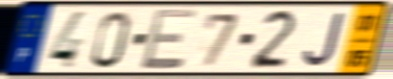0: (90, 9, 135, 70)
2: (249, 7, 299, 71)
4: (43, 9, 89, 71)
7: (202, 11, 241, 68)
E: (139, 7, 200, 73)
J: (301, 11, 348, 70)
